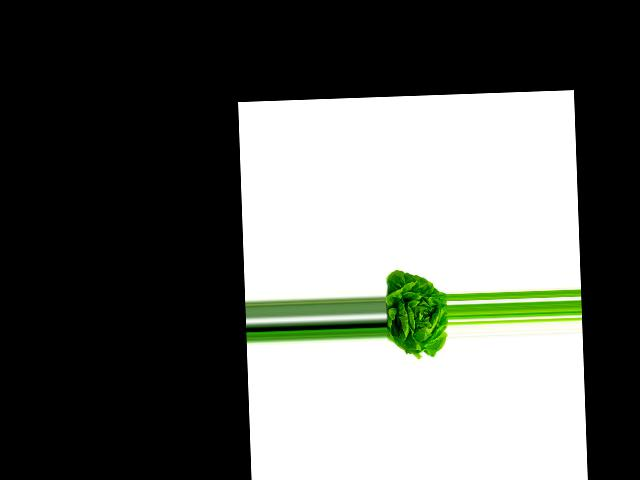lettuce: (384, 266, 448, 356)
